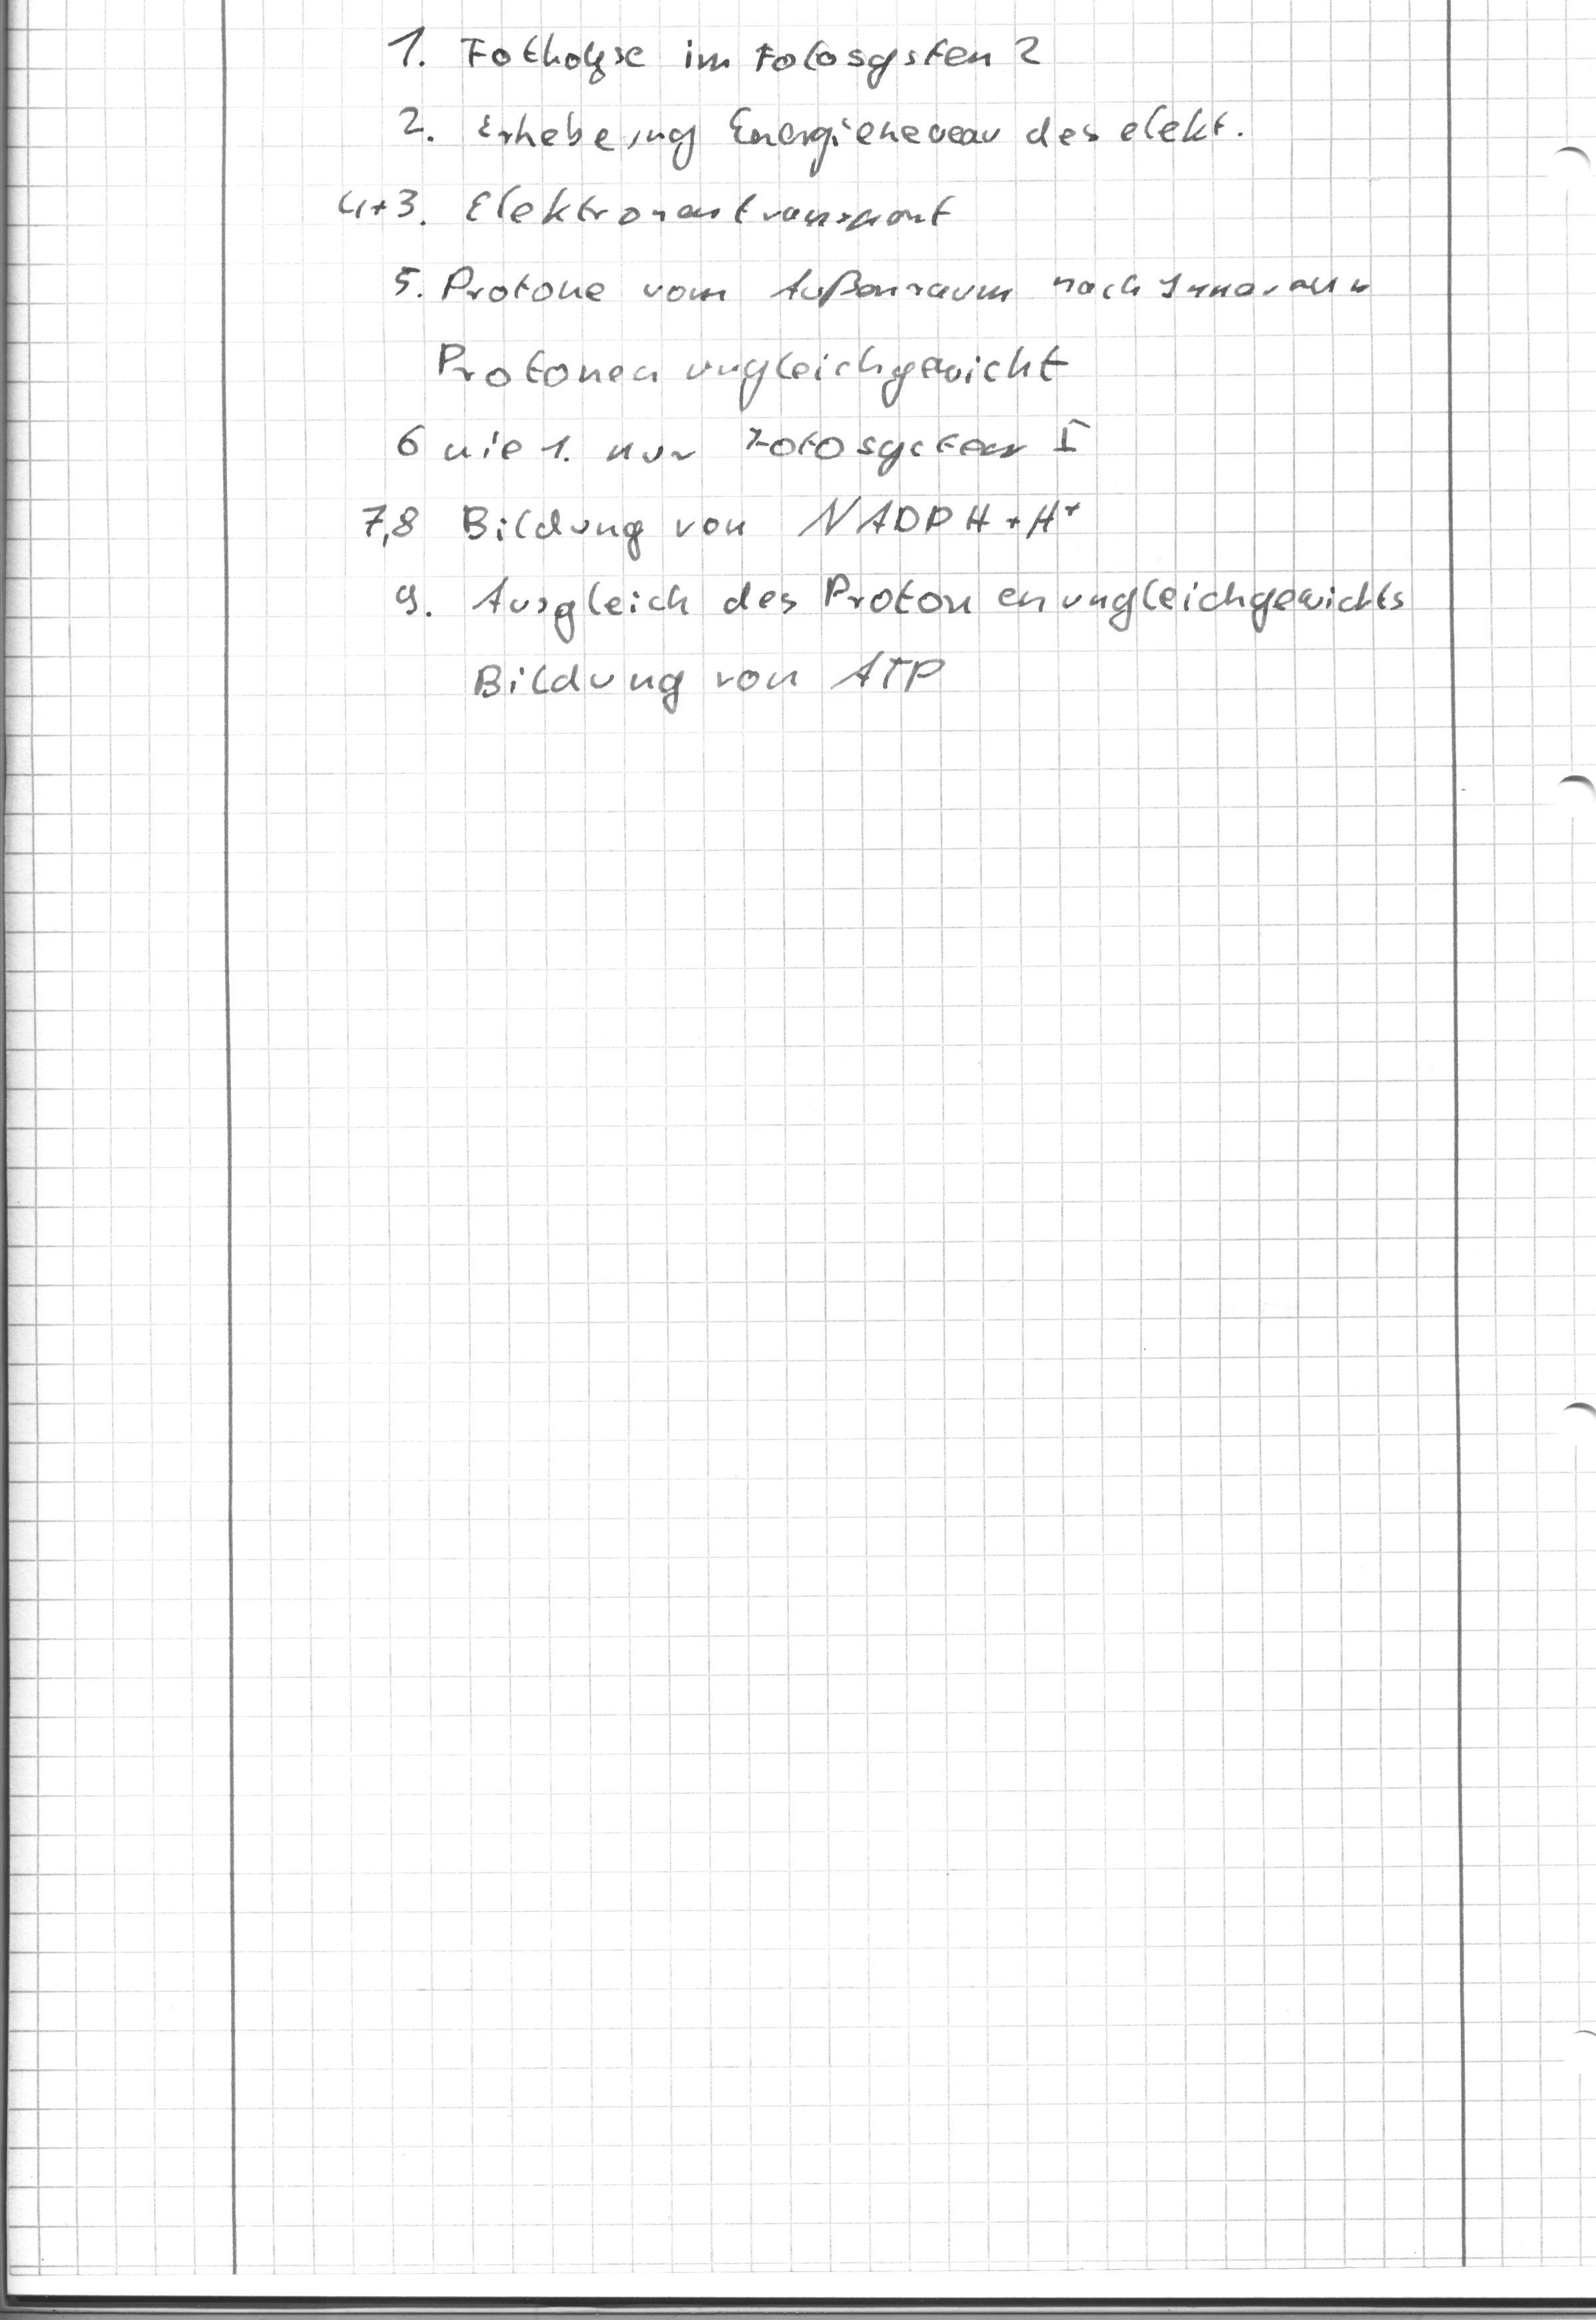word: (326, 485, 1395, 714), (379, 252, 1378, 481), (317, 17, 1254, 244)
